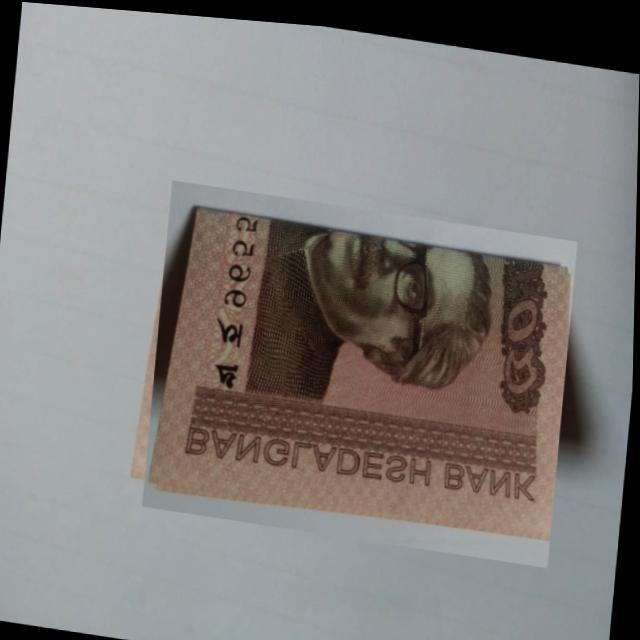Taka: (143, 175, 579, 560)
